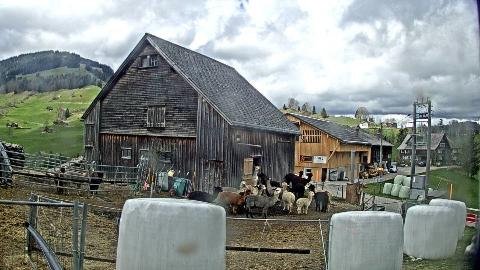car: (388, 165, 398, 173), (418, 161, 426, 167)
sheep: (244, 188, 282, 219), (218, 189, 252, 215), (62, 168, 94, 195), (306, 182, 331, 212), (188, 186, 222, 204), (308, 184, 328, 212), (220, 183, 248, 203), (402, 195, 424, 217), (241, 185, 261, 209), (241, 185, 266, 203), (282, 182, 296, 212), (296, 192, 314, 215), (220, 181, 248, 195), (52, 167, 66, 193), (90, 169, 104, 195), (292, 173, 312, 190), (286, 170, 304, 188), (252, 166, 260, 186)
